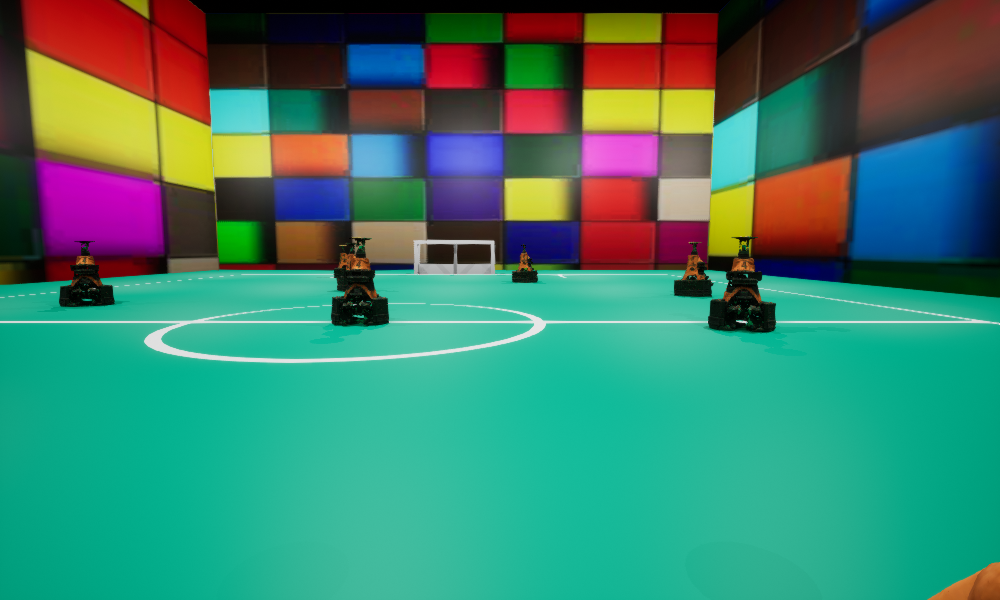0 orange robot TechUnited: (708, 236, 775, 330), (331, 237, 388, 325), (59, 241, 114, 306), (927, 562, 999, 599), (674, 242, 713, 296), (512, 244, 537, 282), (337, 243, 356, 291), (334, 245, 346, 277)
